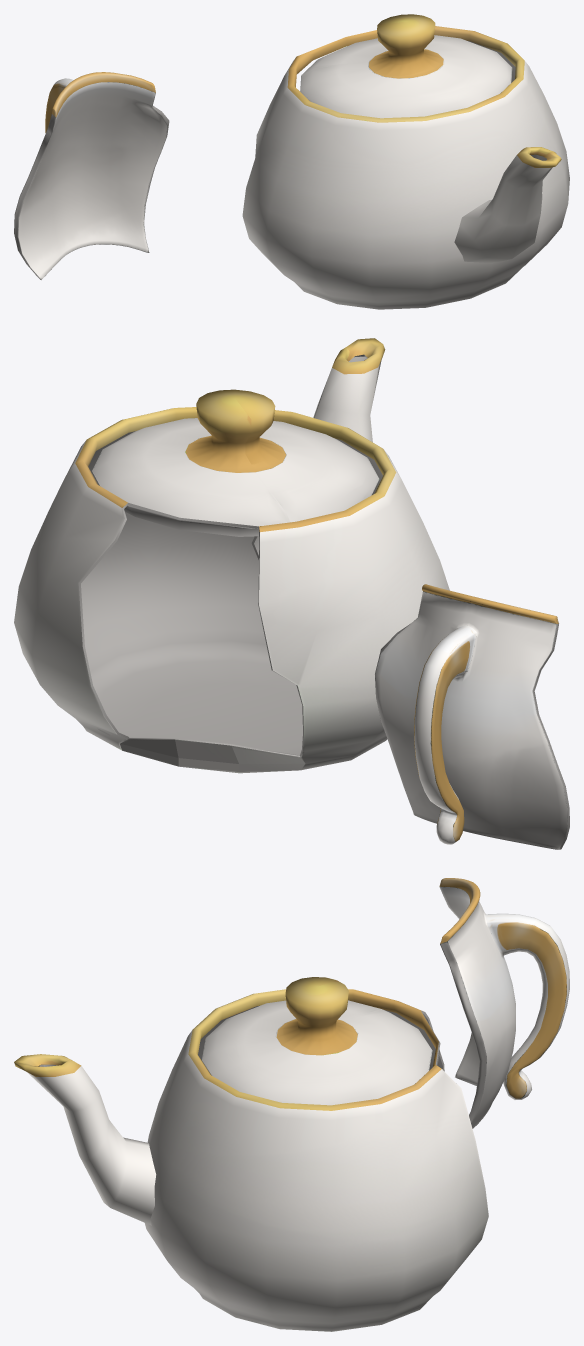
The model's file is theepot.FBX.
3 renders of one model, top to bottom at view 1: azimuth 30°, elevation 25°; view 2: azimuth 150°, elevation 25°; view 3: azimuth 270°, elevation 25°, orthographic. The views are drawn at different scales.
Visible parts, largest first — view 1: Teapot001, Box001; view 2: Teapot001, Box001; view 3: Teapot001, Box001.
Part boxes in pixels (x1,y1,x2,y2): Teapot001: (242,14,569,309); Box001: (14,72,169,279); Teapot001: (14,338,449,773); Box001: (375,584,569,849); Teapot001: (14,977,488,1331); Box001: (439,878,569,1128).
Size of the model in its own units: 262 by 131 by 226.
2 materials, 2 textured.
